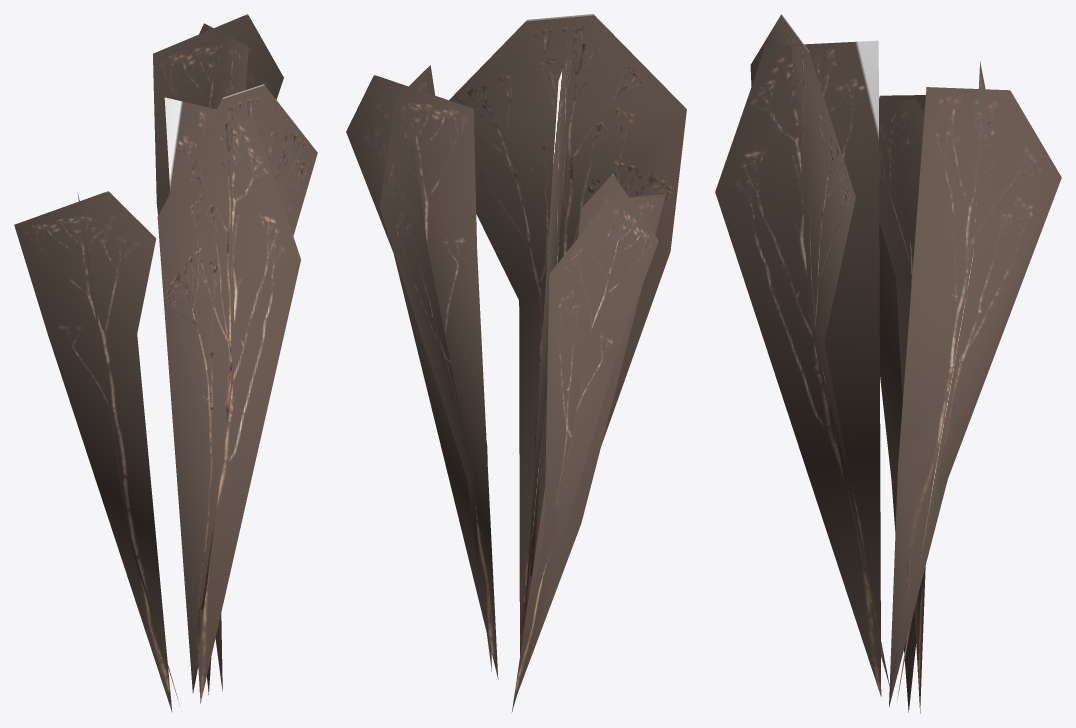
File: Grass_B_2.fbx
The picture shows the model from 3 angles, left to right: view 1: azimuth 30°, elevation 25°; view 2: azimuth 150°, elevation 25°; view 3: azimuth 270°, elevation 25°; orthographic projection. The views are drawn at different scales.
Parts seen in each view (by area): view 1: Grass_B_2; view 2: Grass_B_2; view 3: Grass_B_2.
Part boxes in pixels (x1=…): Grass_B_2: x1=14, y1=14, x2=317, y2=712; Grass_B_2: x1=346, y1=14, x2=686, y2=712; Grass_B_2: x1=715, y1=14, x2=1061, y2=713.
Bounding box in the file's own units: 0.4832 × 1.05 × 0.4763.
